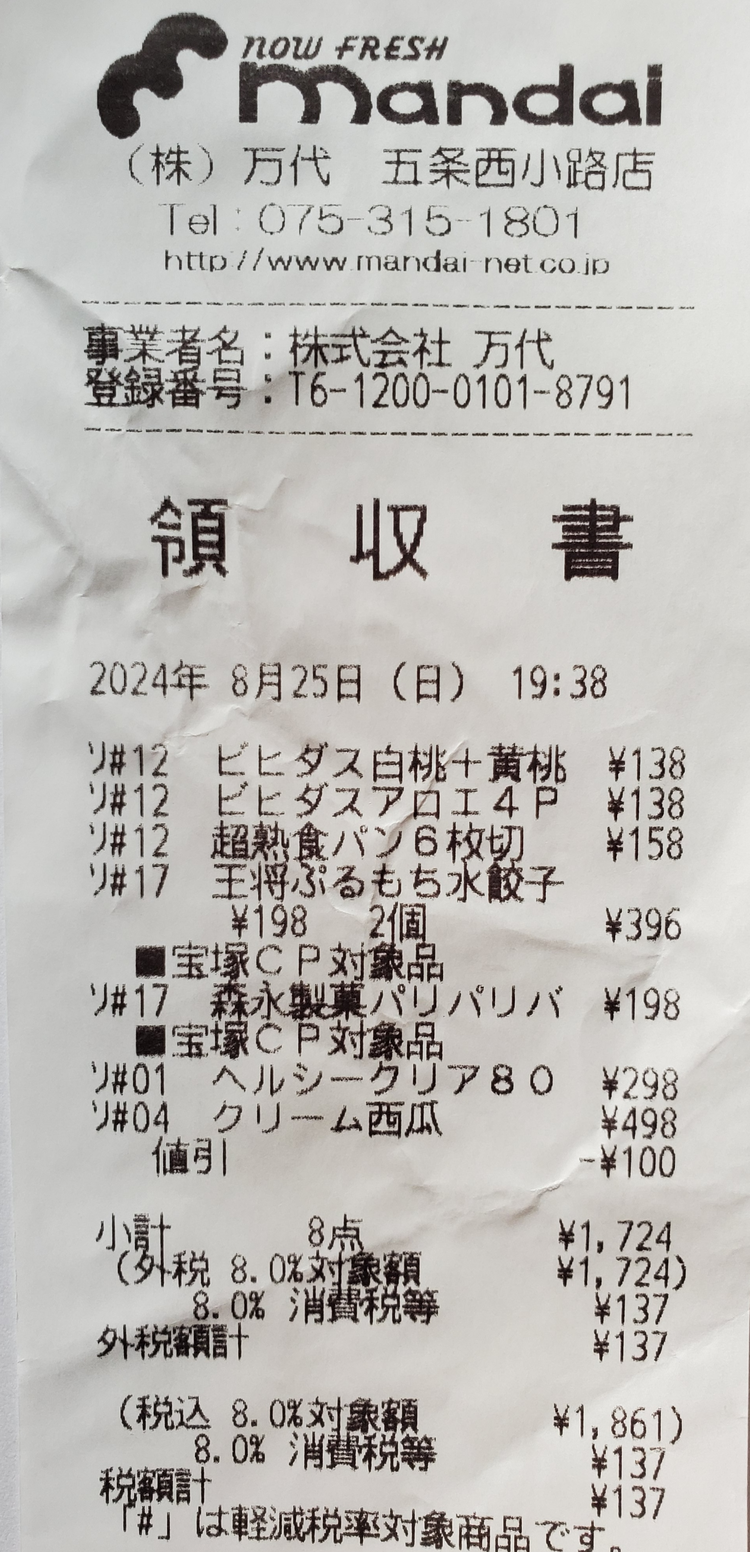Date: (83, 652, 374, 714)
Shopname: (235, 22, 681, 138)
Telnum: (253, 194, 591, 247)
